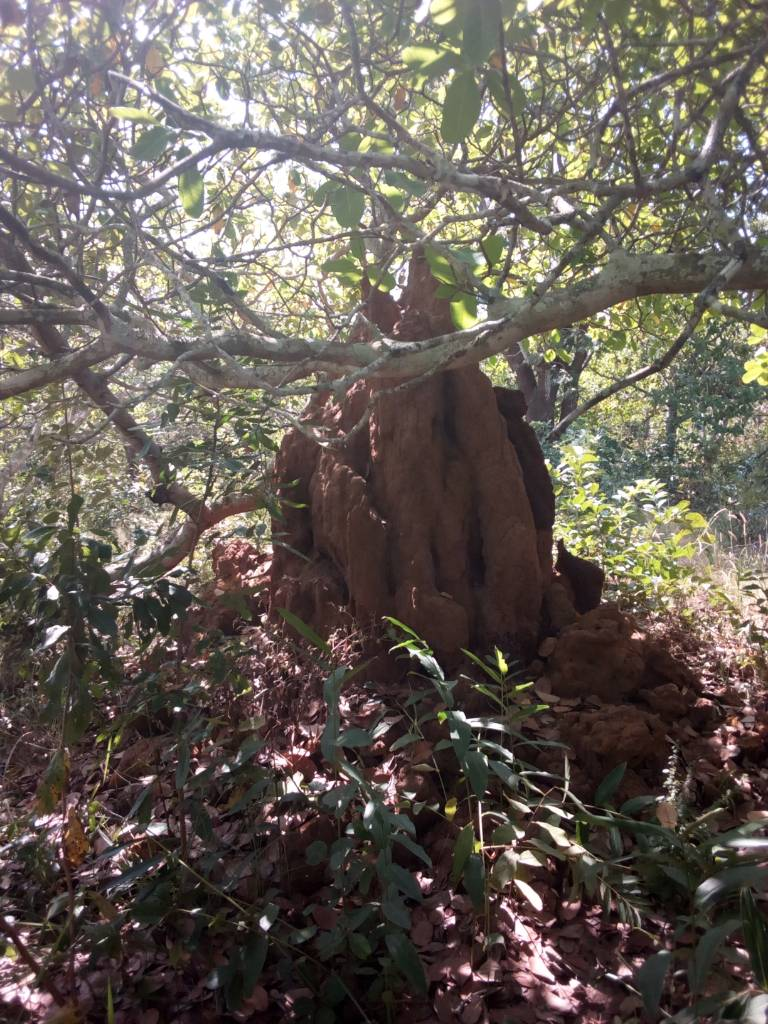Termites: (297, 394, 552, 636)
